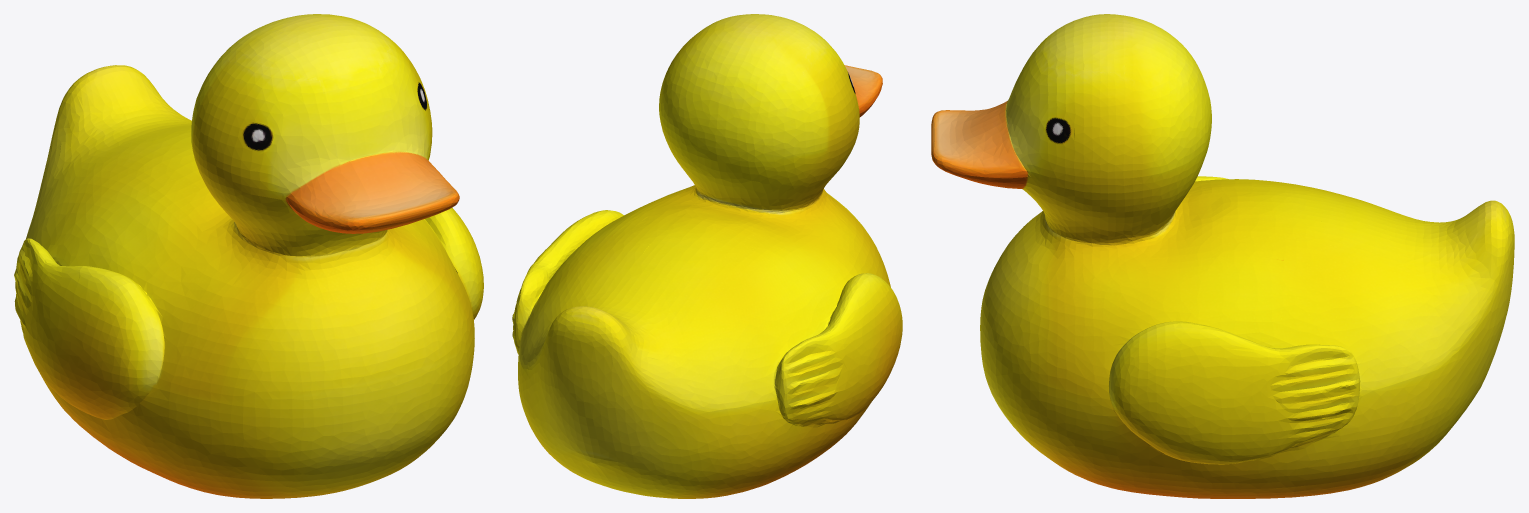
File: duck.glb
3 renders of one model, left to right at view 1: azimuth 30°, elevation 25°; view 2: azimuth 150°, elevation 25°; view 3: azimuth 270°, elevation 25°, orthographic. The views are drawn at different scales.
Parts seen in each view (by area): view 1: world; view 2: world; view 3: world.
Boxes of the visible parts, bbox=[...] form: world: bbox=[14, 14, 483, 498]; world: bbox=[512, 14, 902, 498]; world: bbox=[931, 14, 1514, 498].
Bounding box in the file's own units: 0.7351 × 0.8047 × 0.9991.
Materials: 1 (1 with a texture image).
